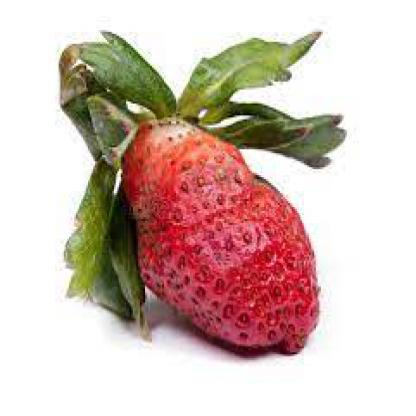strawberry_rotten: (31, 15, 359, 378)
